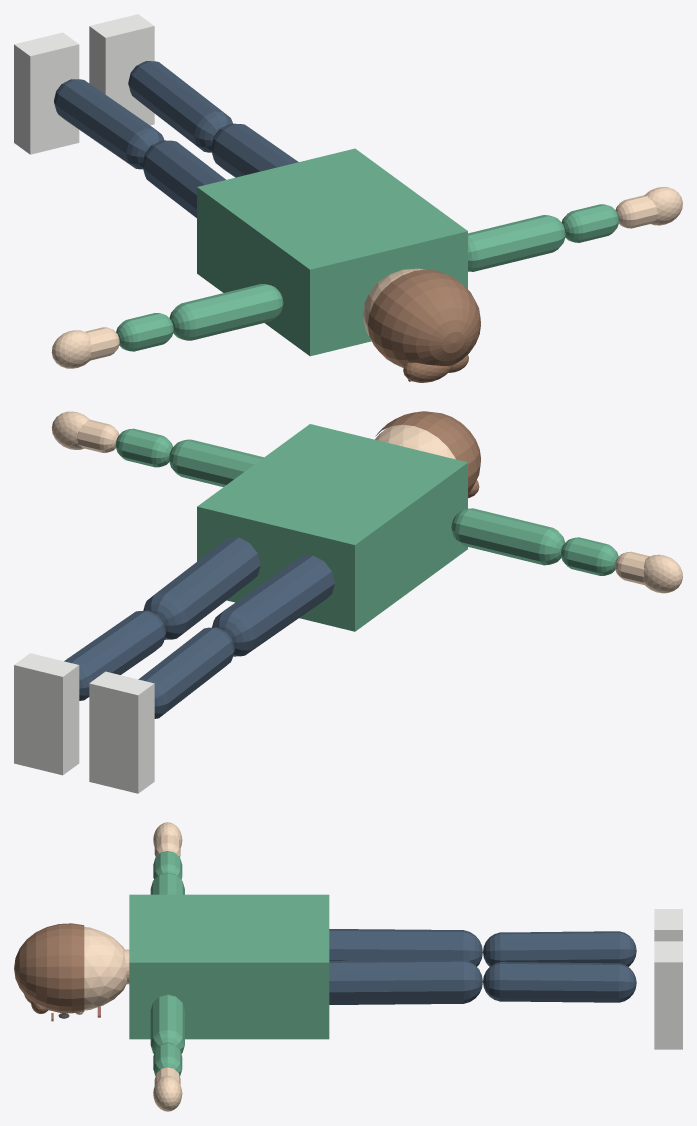
The model's file is CHAR_AVATAR_VARIANT_005.glb.
3 renders of one model, top to bottom at view 1: azimuth 30°, elevation 25°; view 2: azimuth 150°, elevation 25°; view 3: azimuth 270°, elevation 25°, orthographic. The views are drawn at different scales.
Visible parts, largest first — view 1: CHAR_AVATAR_VARIANT_005_torso_jacket, CHAR_AVATAR_VARIANT_005_hair_cap, CHAR_AVATAR_VARIANT_005_shoe_L, CHAR_AVATAR_VARIANT_005_shin_L, CHAR_AVATAR_VARIANT_005_shoe_R, CHAR_AVATAR_VARIANT_005_shin_R, CHAR_AVATAR_VARIANT_005_upper_arm_L, CHAR_AVATAR_VARIANT_005_upper_arm_R, CHAR_AVATAR_VARIANT_005_thigh_L, CHAR_AVATAR_VARIANT_005_thigh_R, CHAR_AVATAR_VARIANT_005_forearm_L, CHAR_AVATAR_VARIANT_005_forearm_R (+6 smaller); view 2: CHAR_AVATAR_VARIANT_005_torso_jacket, CHAR_AVATAR_VARIANT_005_shoe_R, CHAR_AVATAR_VARIANT_005_shoe_L, CHAR_AVATAR_VARIANT_005_thigh_L, CHAR_AVATAR_VARIANT_005_thigh_R, CHAR_AVATAR_VARIANT_005_upper_arm_L, CHAR_AVATAR_VARIANT_005_shin_L, CHAR_AVATAR_VARIANT_005_shin_R, CHAR_AVATAR_VARIANT_005_upper_arm_R, CHAR_AVATAR_VARIANT_005_hair_cap, CHAR_AVATAR_VARIANT_005_forearm_L, CHAR_AVATAR_VARIANT_005_forearm_R (+5 smaller); view 3: CHAR_AVATAR_VARIANT_005_torso_jacket, CHAR_AVATAR_VARIANT_005_thigh_R, CHAR_AVATAR_VARIANT_005_shin_R, CHAR_AVATAR_VARIANT_005_hair_cap, CHAR_AVATAR_VARIANT_005_thigh_L, CHAR_AVATAR_VARIANT_005_shin_L, CHAR_AVATAR_VARIANT_005_shoe_R, CHAR_AVATAR_VARIANT_005_head, CHAR_AVATAR_VARIANT_005_upper_arm_R, CHAR_AVATAR_VARIANT_005_shoe_L, CHAR_AVATAR_VARIANT_005_hand_R, CHAR_AVATAR_VARIANT_005_forearm_R (+3 smaller).
Part boxes in pixels (x1,y1,x2,y2): CHAR_AVATAR_VARIANT_005_torso_jacket: [197, 148, 467, 356]; CHAR_AVATAR_VARIANT_005_hair_cap: [367, 269, 480, 367]; CHAR_AVATAR_VARIANT_005_shoe_L: [14, 32, 79, 154]; CHAR_AVATAR_VARIANT_005_shin_L: [54, 79, 163, 169]; CHAR_AVATAR_VARIANT_005_shoe_R: [89, 14, 154, 125]; CHAR_AVATAR_VARIANT_005_shin_R: [128, 61, 232, 152]; CHAR_AVATAR_VARIANT_005_upper_arm_L: [169, 284, 283, 340]; CHAR_AVATAR_VARIANT_005_upper_arm_R: [468, 215, 565, 271]; CHAR_AVATAR_VARIANT_005_thigh_L: [142, 140, 225, 217]; CHAR_AVATAR_VARIANT_005_thigh_R: [211, 123, 298, 177]; CHAR_AVATAR_VARIANT_005_forearm_L: [116, 313, 173, 351]; CHAR_AVATAR_VARIANT_005_forearm_R: [561, 204, 618, 242]; CHAR_AVATAR_VARIANT_005_torso_jacket: [197, 424, 467, 631]; CHAR_AVATAR_VARIANT_005_shoe_R: [14, 653, 79, 775]; CHAR_AVATAR_VARIANT_005_shoe_L: [89, 671, 154, 793]; CHAR_AVATAR_VARIANT_005_thigh_L: [212, 555, 334, 656]; CHAR_AVATAR_VARIANT_005_thigh_R: [143, 537, 260, 639]; CHAR_AVATAR_VARIANT_005_upper_arm_L: [451, 508, 565, 565]; CHAR_AVATAR_VARIANT_005_shin_L: [138, 627, 234, 718]; CHAR_AVATAR_VARIANT_005_shin_R: [64, 610, 165, 700]; CHAR_AVATAR_VARIANT_005_upper_arm_R: [169, 439, 263, 486]; CHAR_AVATAR_VARIANT_005_hair_cap: [375, 411, 480, 493]; CHAR_AVATAR_VARIANT_005_forearm_L: [561, 537, 618, 575]; CHAR_AVATAR_VARIANT_005_forearm_R: [115, 428, 172, 467]; CHAR_AVATAR_VARIANT_005_torso_jacket: [129, 894, 329, 1039]; CHAR_AVATAR_VARIANT_005_thigh_R: [329, 959, 482, 1004]; CHAR_AVATAR_VARIANT_005_shin_R: [483, 962, 636, 1002]; CHAR_AVATAR_VARIANT_005_hair_cap: [14, 923, 84, 1013]; CHAR_AVATAR_VARIANT_005_thigh_L: [329, 929, 482, 966]; CHAR_AVATAR_VARIANT_005_shin_L: [483, 931, 636, 966]; CHAR_AVATAR_VARIANT_005_shoe_R: [654, 941, 682, 1049]; CHAR_AVATAR_VARIANT_005_head: [84, 927, 127, 1010]; CHAR_AVATAR_VARIANT_005_upper_arm_R: [150, 994, 184, 1053]; CHAR_AVATAR_VARIANT_005_shoe_L: [654, 909, 682, 941]; CHAR_AVATAR_VARIANT_005_hand_R: [153, 1075, 182, 1111]; CHAR_AVATAR_VARIANT_005_forearm_R: [153, 1043, 182, 1075].
Size of the model in its own units: 1.68 by 0.2719 by 1.75.
